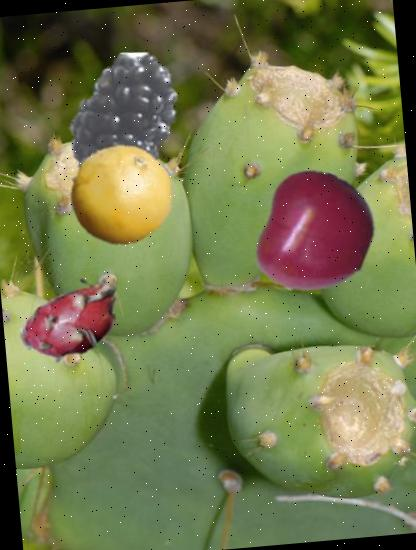Cherry: (250, 166, 385, 302)
Grapefruit: (62, 136, 178, 252)
Mulberry: (50, 47, 200, 196)
Pitahaya: (12, 261, 132, 381)
